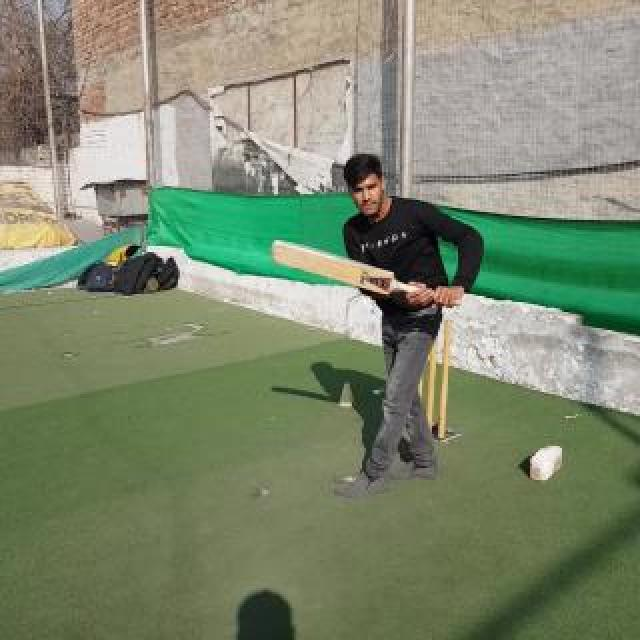bat: (270, 240, 462, 308)
